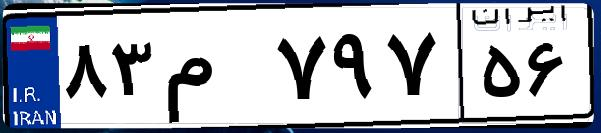3: (110, 28, 158, 98)
5: (475, 38, 525, 113)
6: (525, 38, 570, 115)
7: (270, 28, 330, 110), (385, 28, 445, 110)
8: (57, 26, 110, 100)
9: (330, 28, 385, 110)
م: (158, 20, 270, 120)
